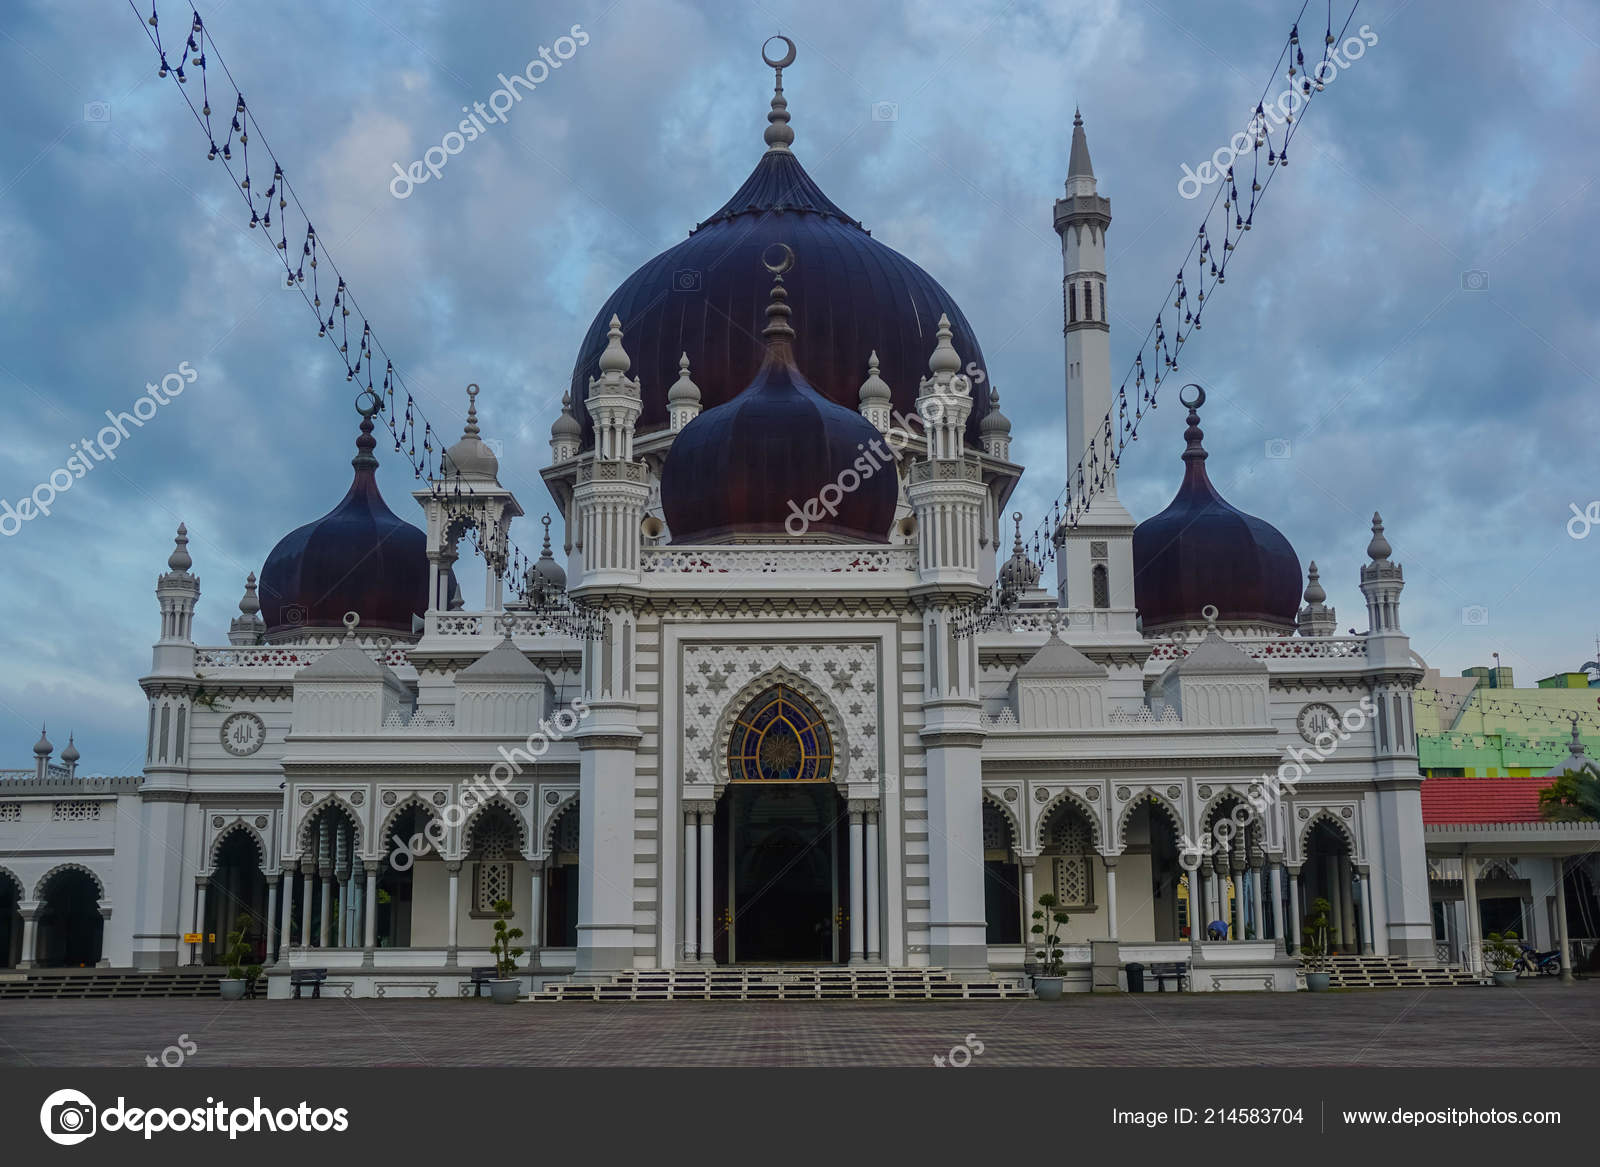Mosque: (138, 31, 1434, 971)
